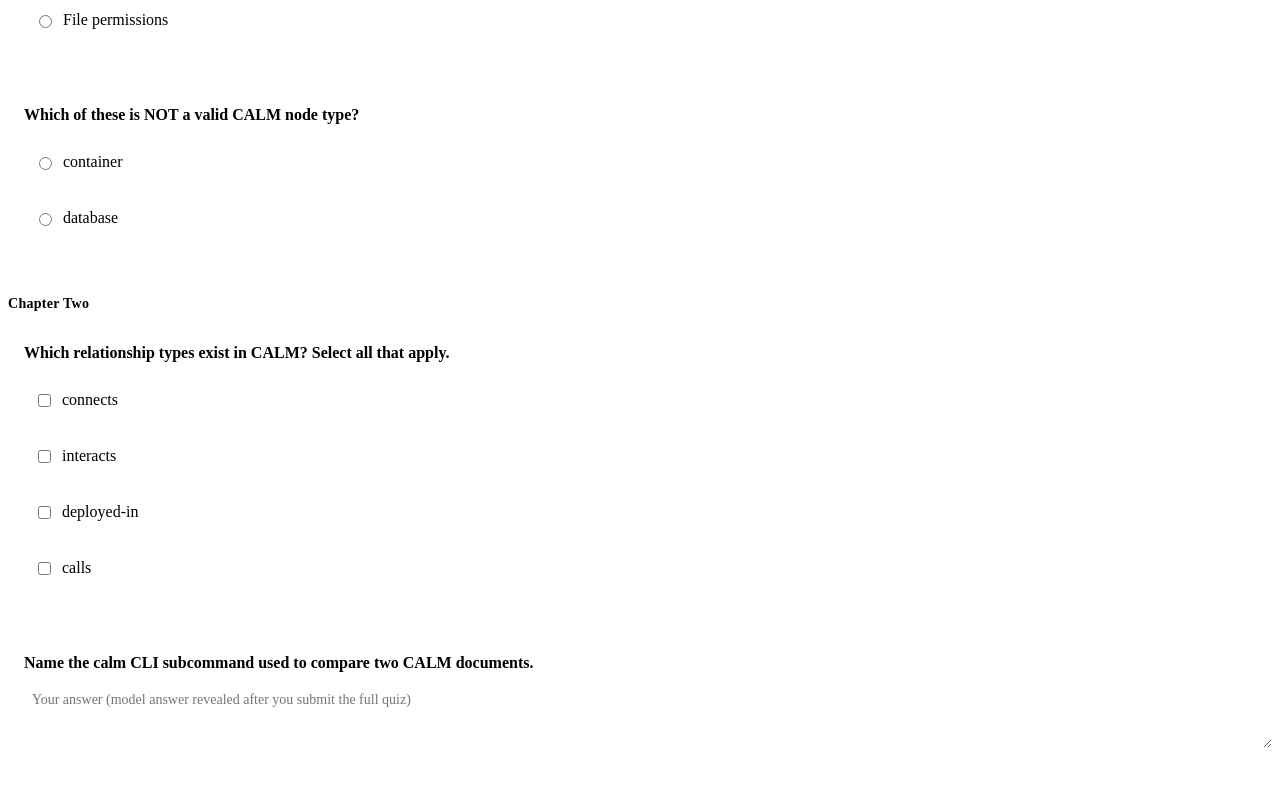
Test case: Quiz › Test 8 (multiple_correct): Checkbox inputs rendered; enabled after check; post-submit sub-label shown
(page scrolled)
Note: After checking one checkbox, submit is enabled
Click the checkbox labelled "connects".
click(44, 400)  # box [38,394,51,406]
(page scrolled)
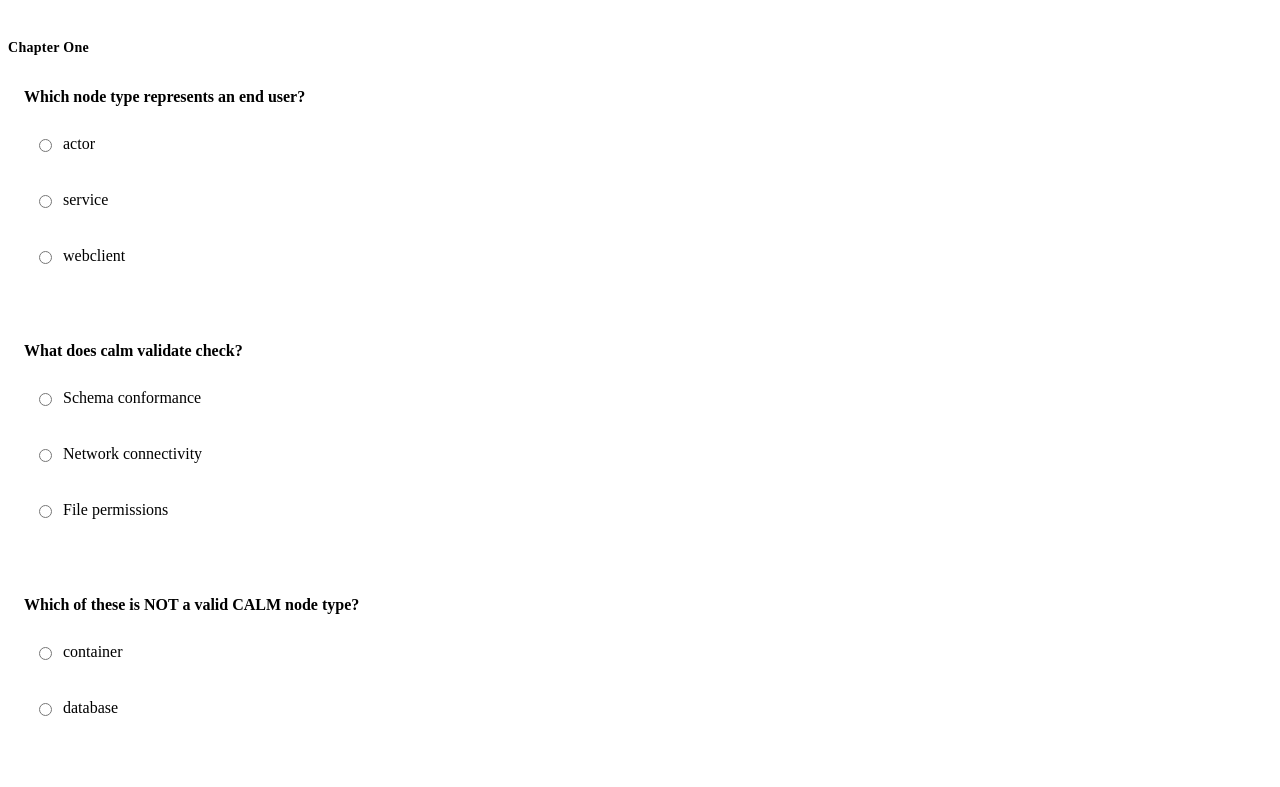
Note: Also select a radio to avoid unanswered-question issues
Click the radio button labelled "actor".
click(46, 146)  # box [39,139,52,152]
(page scrolled)
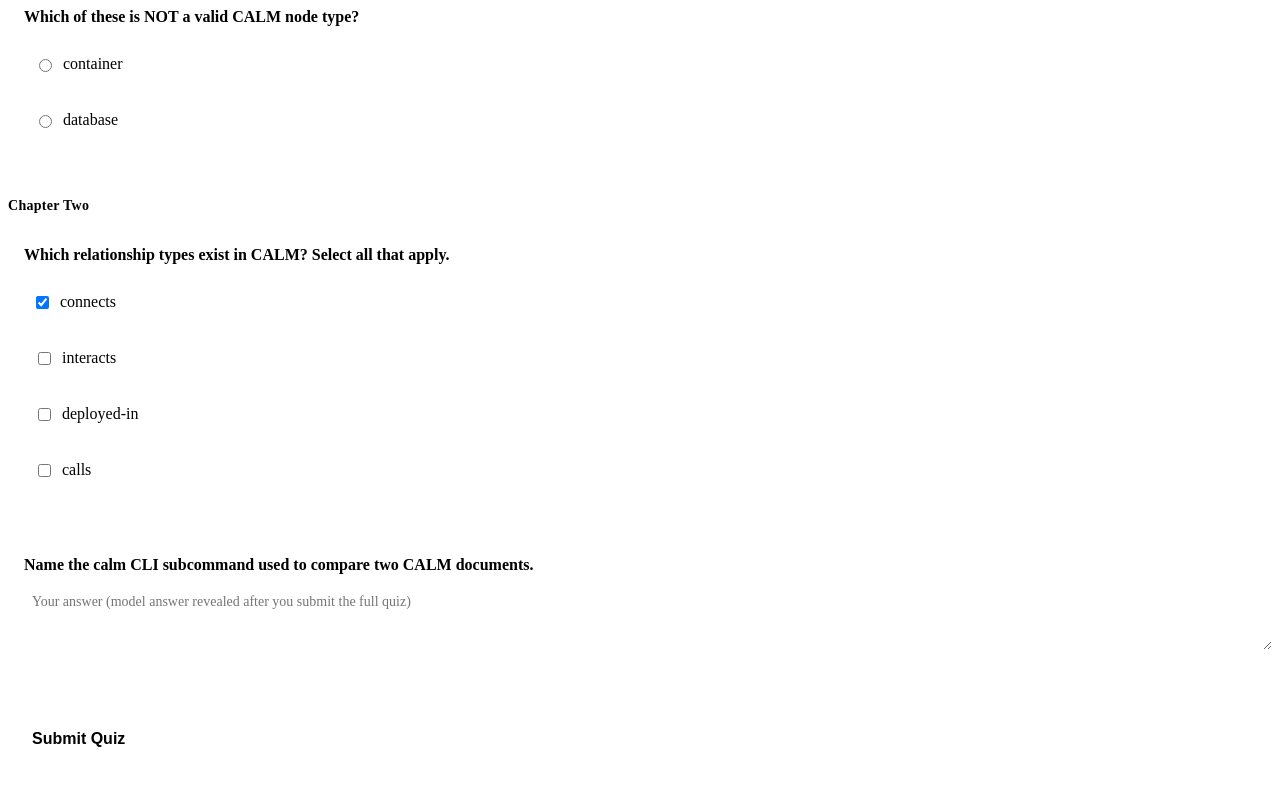
Click the button "Submit Quiz".
click(79, 739)  # box [8,718,149,760]
(page scrolled)
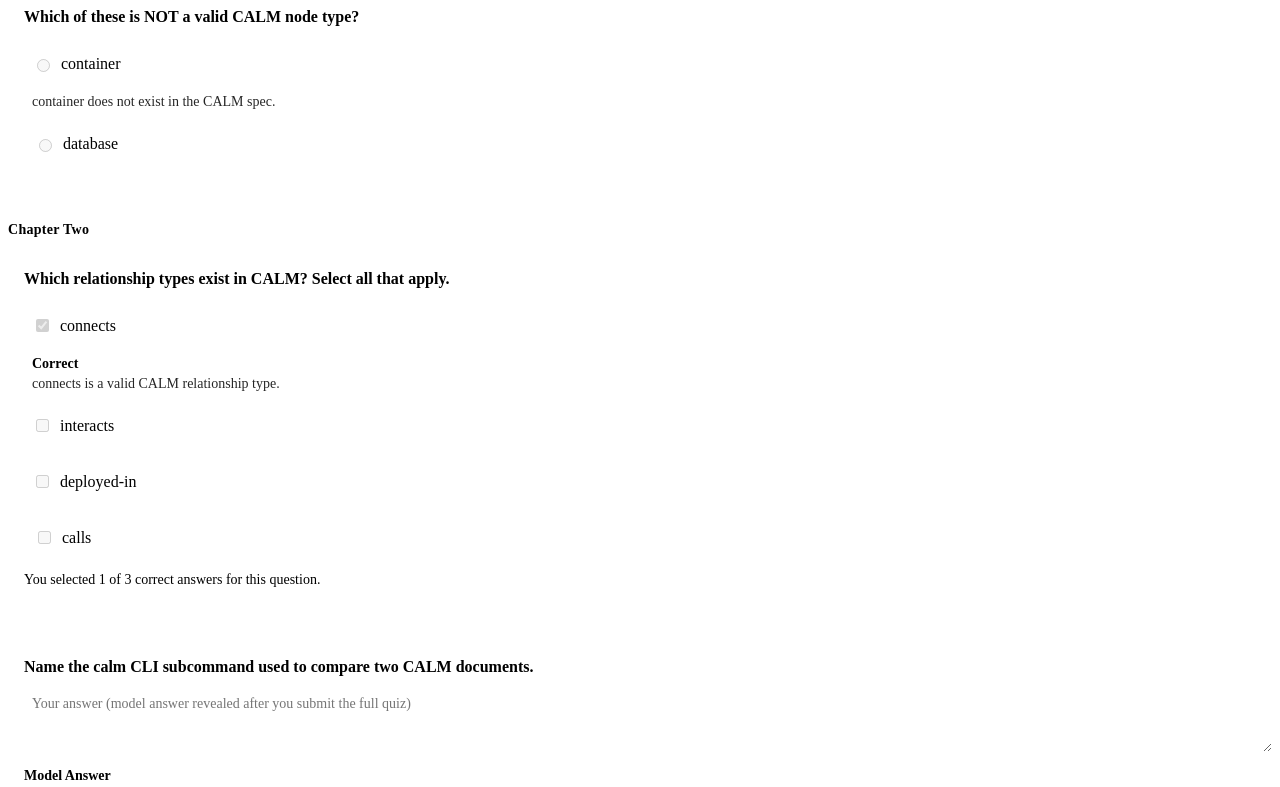
Now the text "You selected 1 of 3 correct answers for this question." is shown, box [24,572,320,587]
